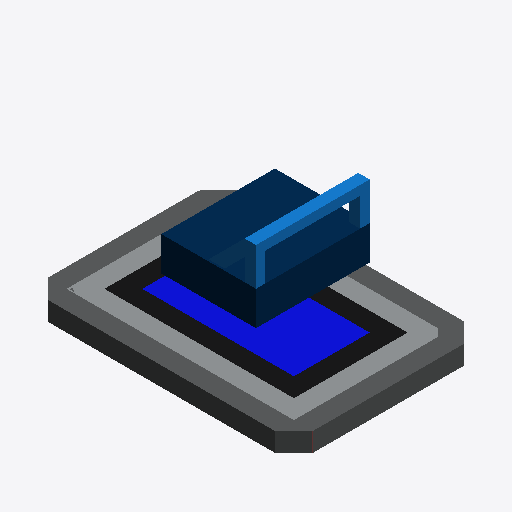
A Minecraft block model of 14 cuboids, rendered isometrically (azimuth 45°, elevation 35.3°) with the resource pack's own textures.
Parts seen in each view (by area): element 9, element 1, element 10, element 4, element 12, element 2, element 3, element 14, element 5.
Part boxes in pixels (x1,y1,x2,y2): element 9: (48,191,463,452); element 1: (161,169,369,327); element 10: (48,235,463,452); element 4: (255,179,359,250); element 12: (275,420,311,452); element 2: (245,233,264,288); element 3: (349,173,369,227); element 14: (438,322,463,342); element 5: (209,239,244,267).
Bounding box in the file's own units: 10 × 7 × 14.